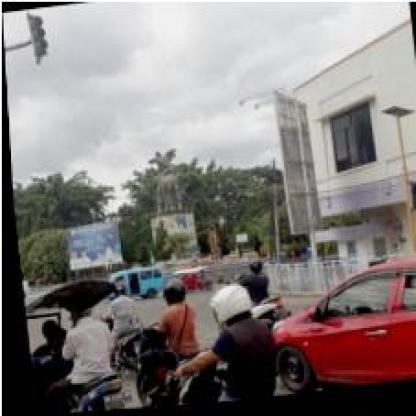red: (27, 13, 46, 57)
